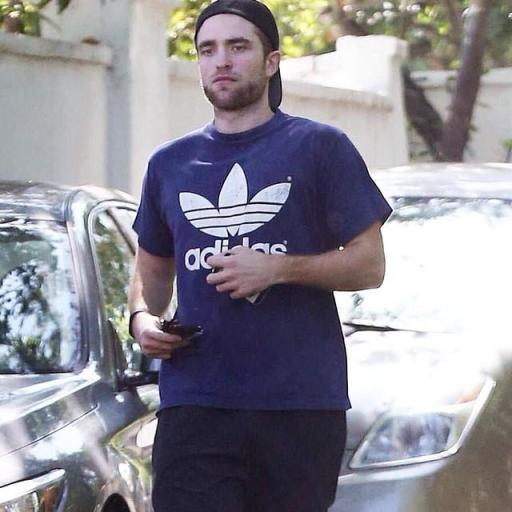Adidas: (177, 161, 293, 270)
